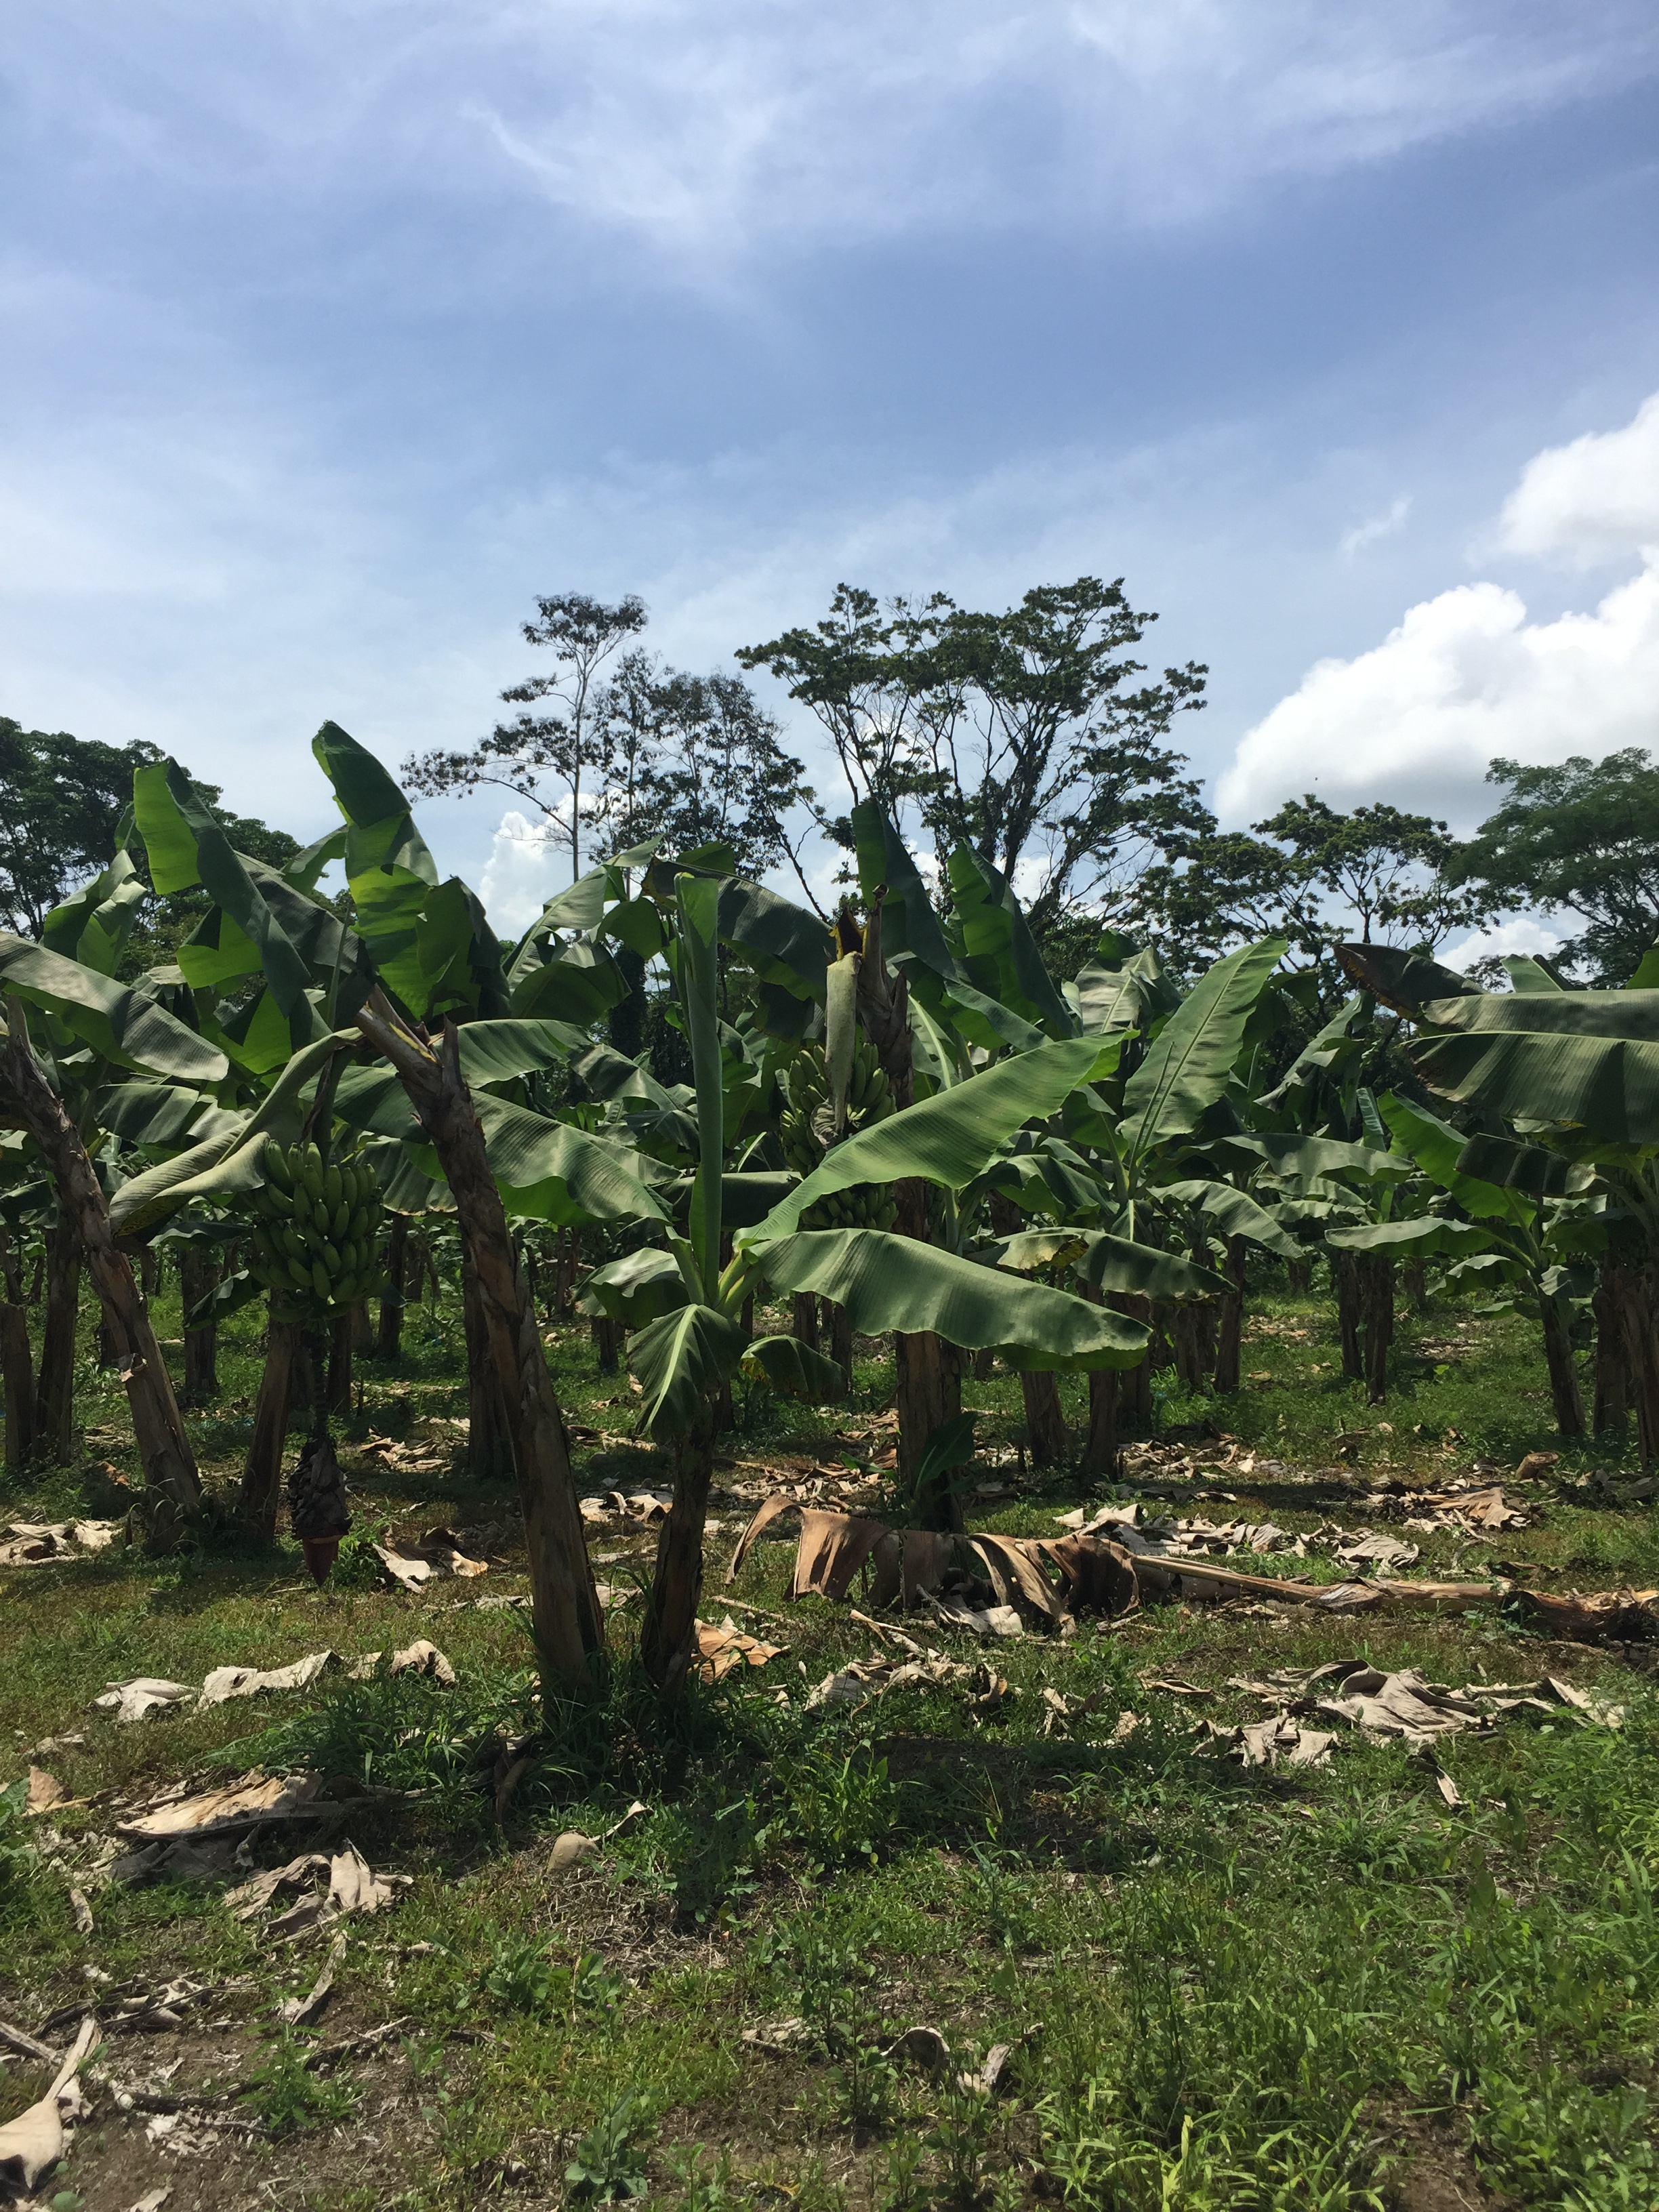candleleafs: (673, 874, 720, 1301), (1127, 1040, 1175, 1179), (328, 900, 354, 1026)
